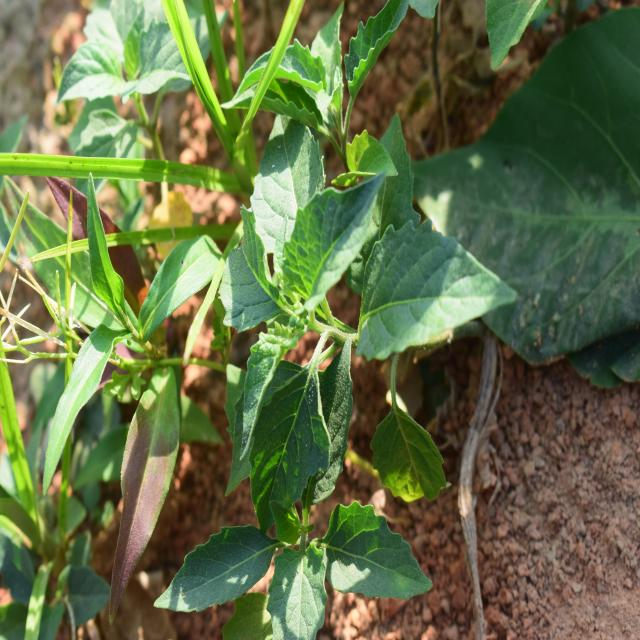Black_nightshade: (208, 148, 460, 492), (196, 437, 404, 622)
